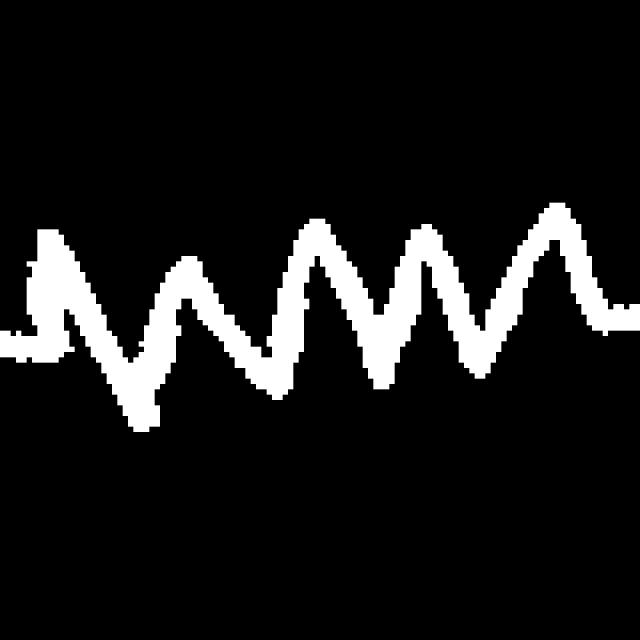resistor: (11, 184, 614, 451)
